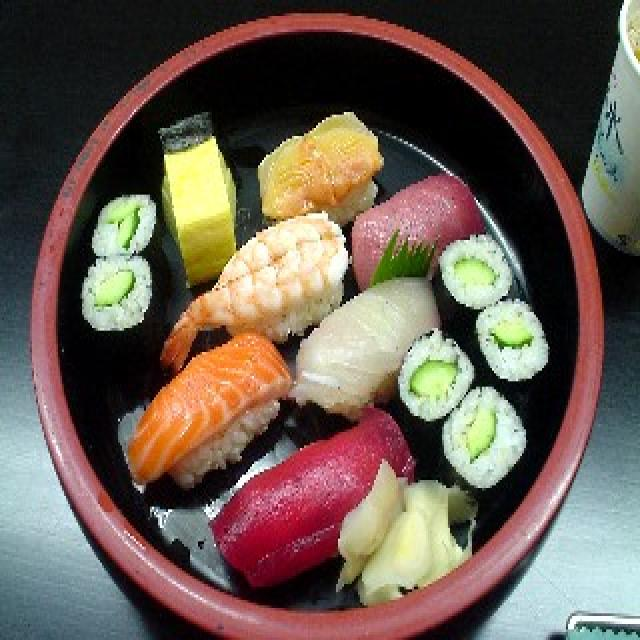寿司卷物: (68, 69, 564, 619)
